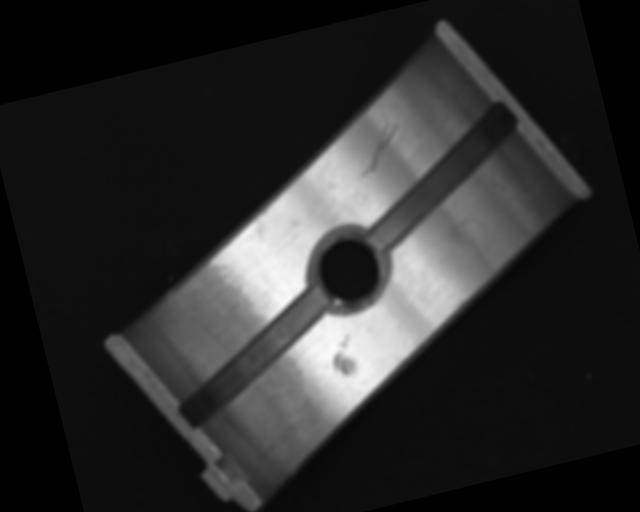bruise: (327, 332, 359, 380)
gap: (346, 98, 540, 253), (160, 283, 345, 430)
hole: (303, 222, 400, 318)
nick: (351, 119, 410, 181), (449, 218, 479, 231)
